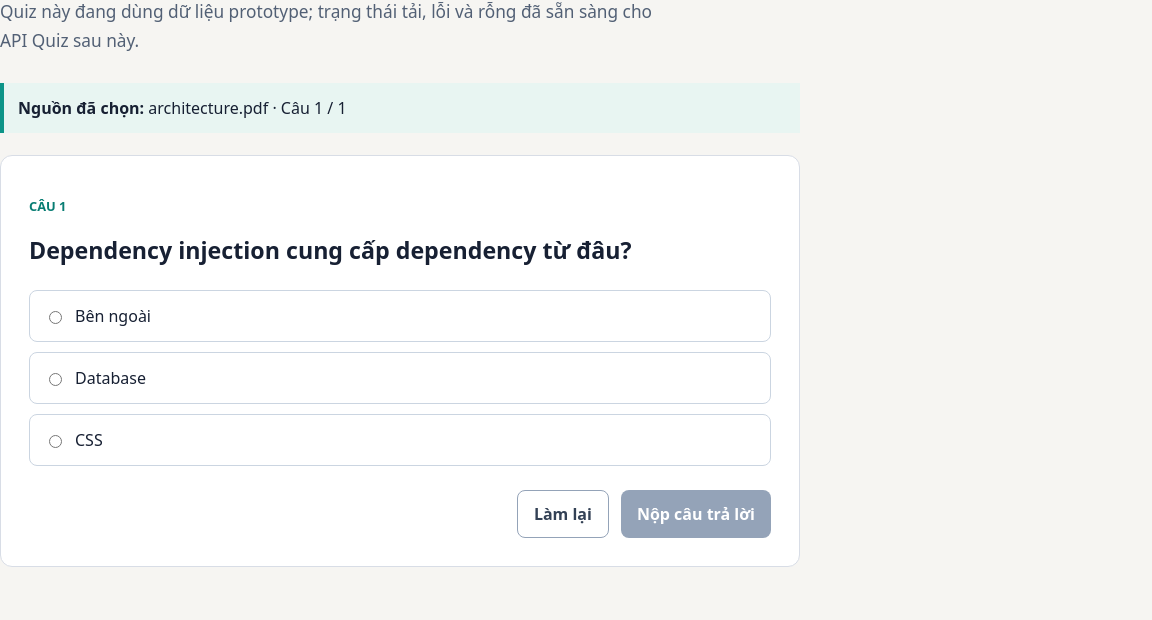
Test: QuizPage regression states › submits a valid answer with feedback and resets the attempt
Check: the button "Nộp câu trả lời" is disabled, box [621,490,771,538]
Click the radio button labelled "Bên ngoài" at (56, 318), box [49,308,62,327]
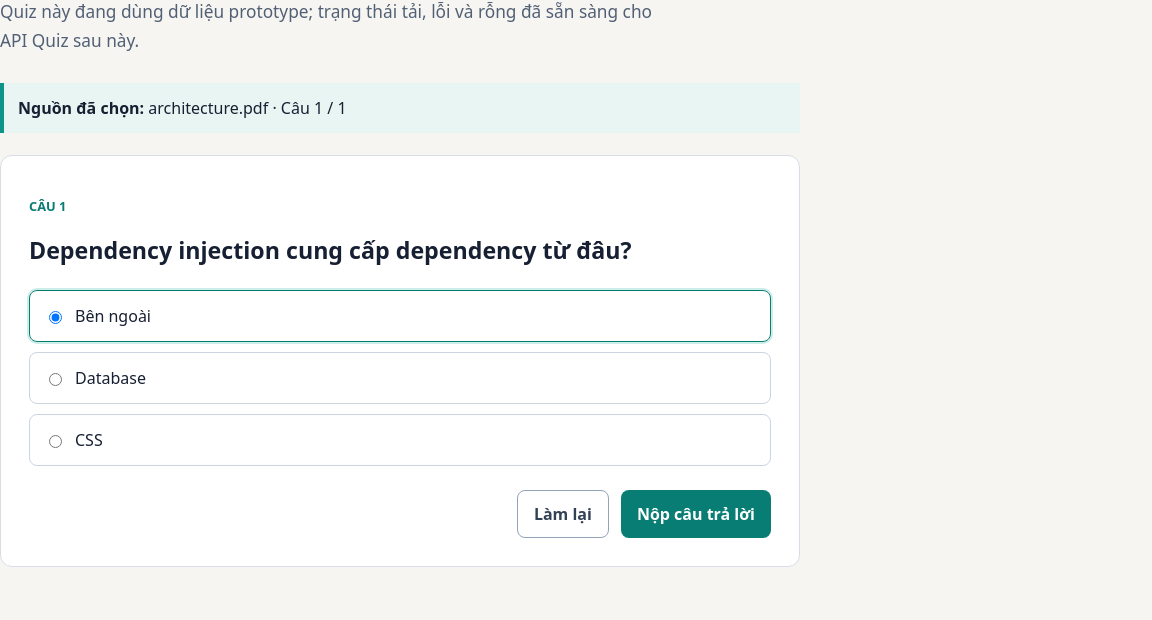
Check: the button "Nộp câu trả lời" is enabled
Click the button "Nộp câu trả lời" at (696, 514), box [621,490,771,538]
(page scrolled)
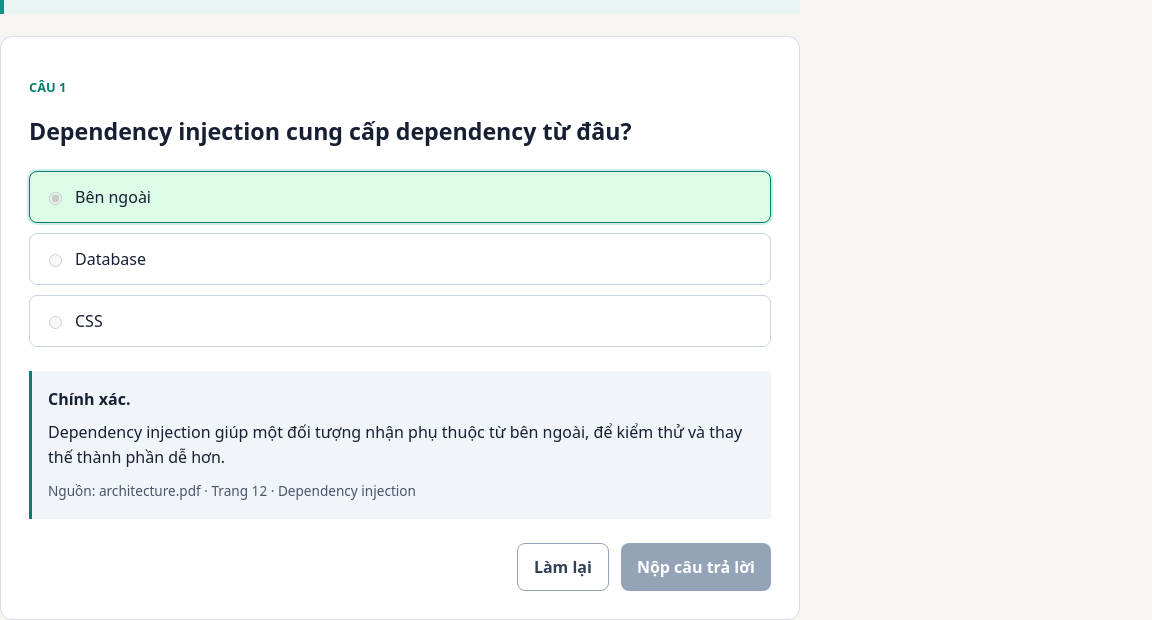
Check: the text "Chính xác." is shown, box [48,388,130,410]
Check: the text "Nguồn: architecture.pdf · Trang 12 · Dependency injection" is shown, box [48,481,416,500]
Check: the button "Nộp câu trả lời" is disabled, box [621,542,771,590]
Click the button "Làm lại" at (563, 566), box [517,542,609,590]
(page scrolled)
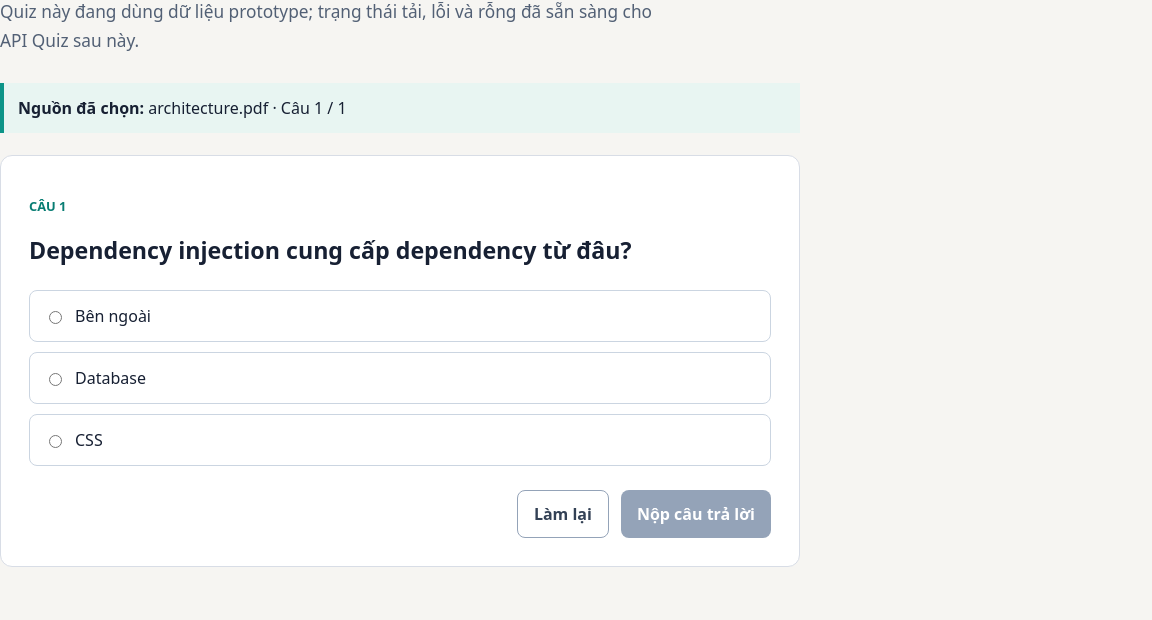
Check: the button "Nộp câu trả lời" is disabled, box [621,490,771,538]
Check: the text "Chính xác." is gone
